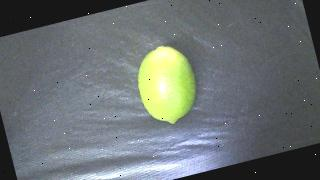LOCAL: (130, 40, 205, 130)
